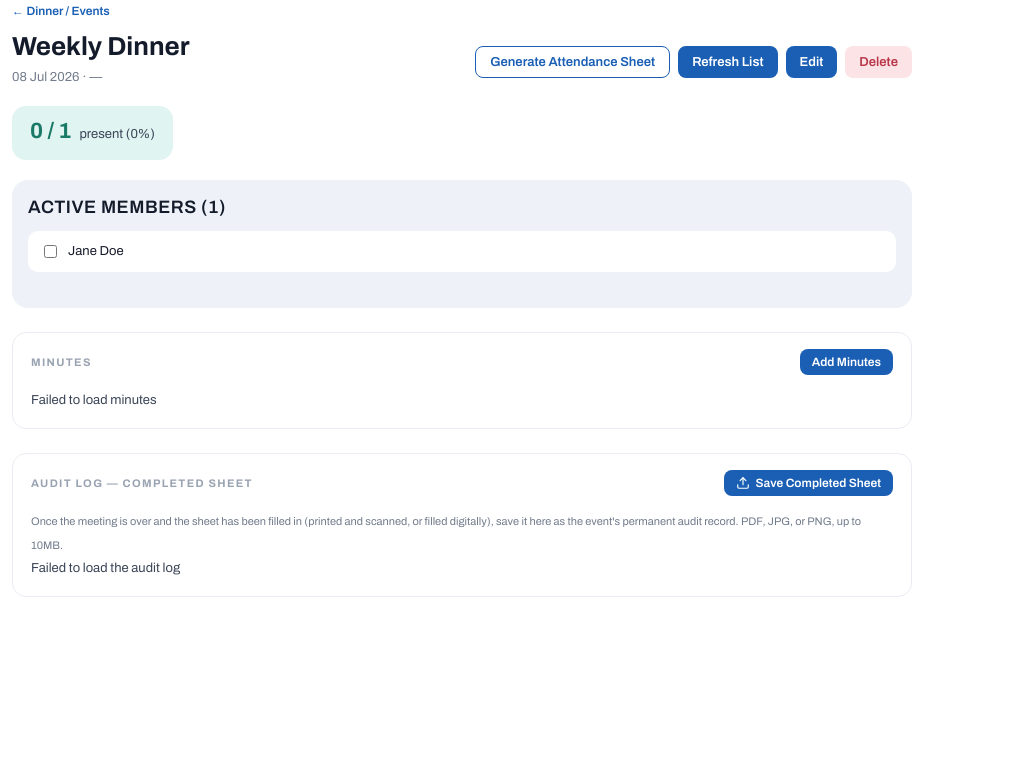
it: AttendanceSheet › Generate Attendance Sheet (Story 16.33) › shows an error if generation fails
This screenshot has width=1036, height=768.
What coordinates should you click on to do the following:
click the button "Generate Attendance Sheet"
I would click on:
 (573, 62)
Its box is x1=475 y1=46 x2=670 y2=78.
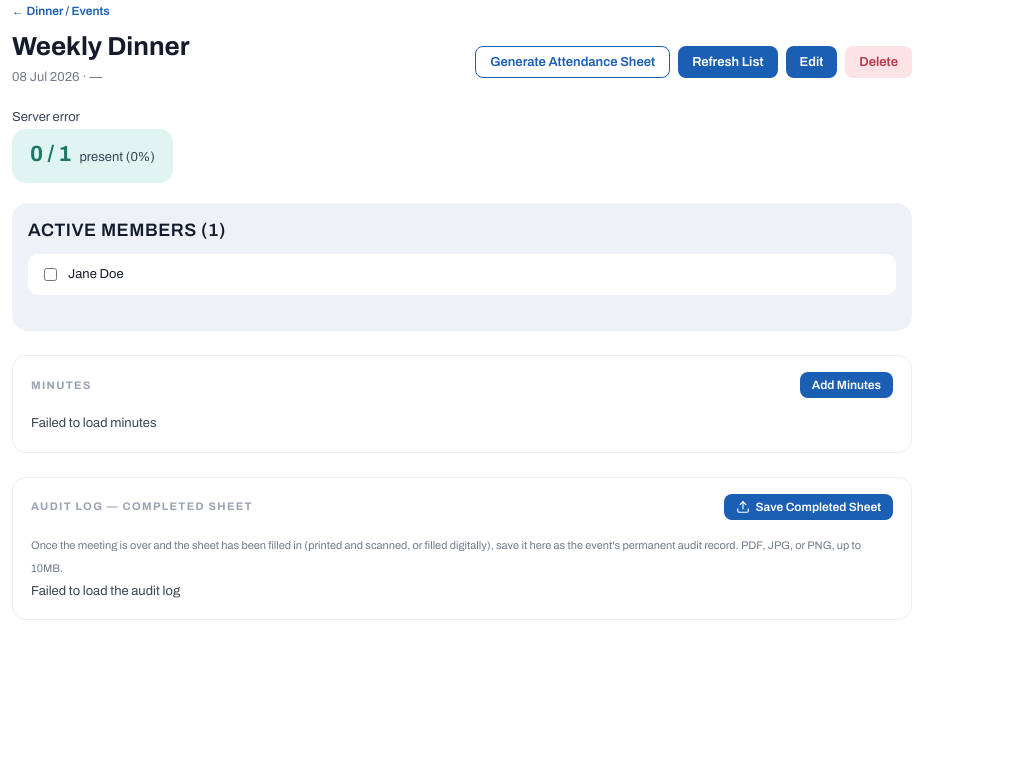
Expected: the text "Server error" is shown, x1=12 y1=110 x2=80 y2=124
